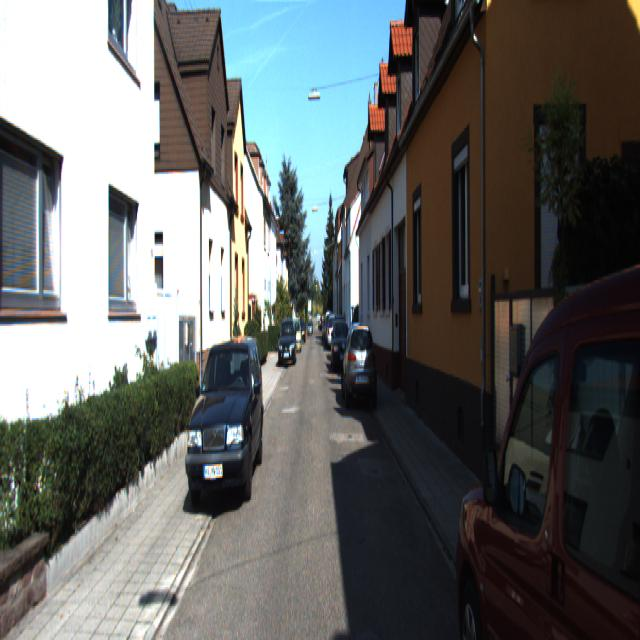Car: (186, 325, 264, 515), (342, 320, 376, 412), (332, 318, 353, 377), (278, 314, 296, 366)
DontCare: (318, 306, 335, 347), (296, 316, 312, 347)
Van: (454, 209, 640, 638)
